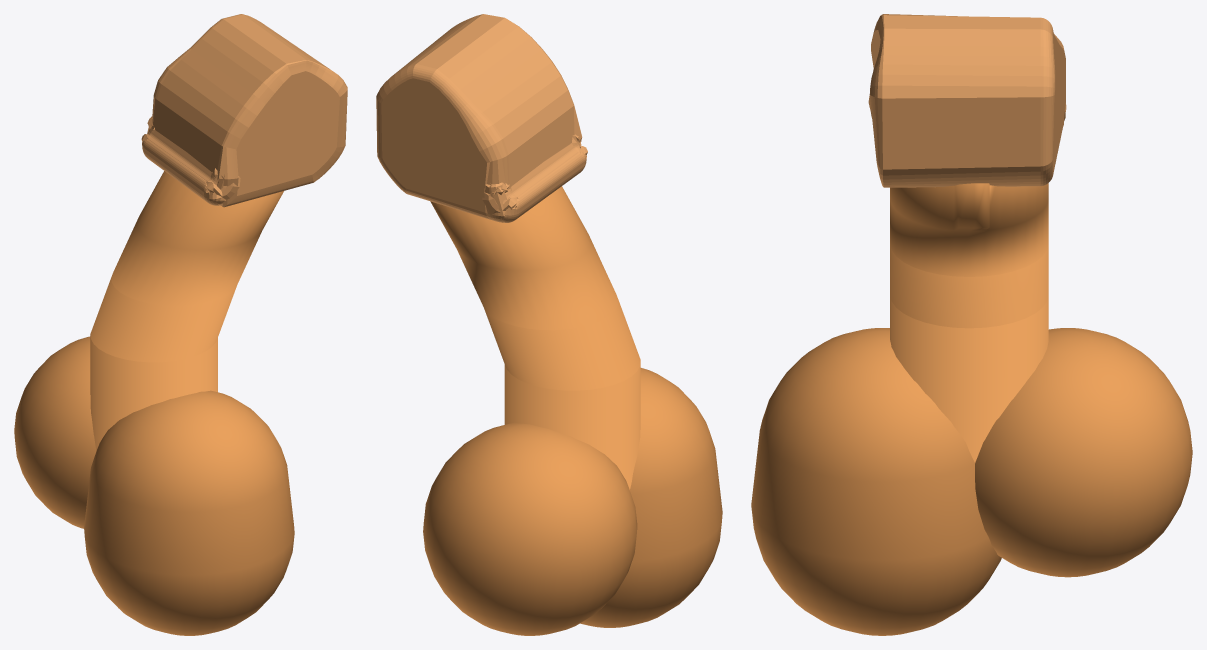
Rendered from penistest.glb.
3 renders of one model, left to right at view 1: azimuth 30°, elevation 25°; view 2: azimuth 150°, elevation 25°; view 3: azimuth 270°, elevation 25°, orthographic. The views are drawn at different scales.
Parts seen in each view (by area): view 1: Sphere, Cube, Cylinder, Sphere.001; view 2: Sphere.001, Cylinder, Cube, Sphere; view 3: Sphere, Sphere.001, Cylinder, Cube.
Part boxes in pixels (bbox=[...]): Sphere: bbox=[84, 390, 294, 635]; Cube: bbox=[141, 14, 347, 207]; Cylinder: bbox=[90, 171, 283, 450]; Sphere.001: bbox=[14, 336, 96, 528]; Sphere.001: bbox=[423, 422, 637, 635]; Cylinder: bbox=[430, 186, 640, 489]; Cube: bbox=[376, 14, 587, 222]; Sphere: bbox=[580, 368, 722, 627]; Sphere: bbox=[751, 328, 1001, 635]; Sphere.001: bbox=[975, 328, 1192, 577]; Cylinder: bbox=[890, 183, 1048, 462]; Cube: bbox=[868, 14, 1066, 187].
Bounding box in the file's own units: 2.87 × 5.9 × 3.54.
